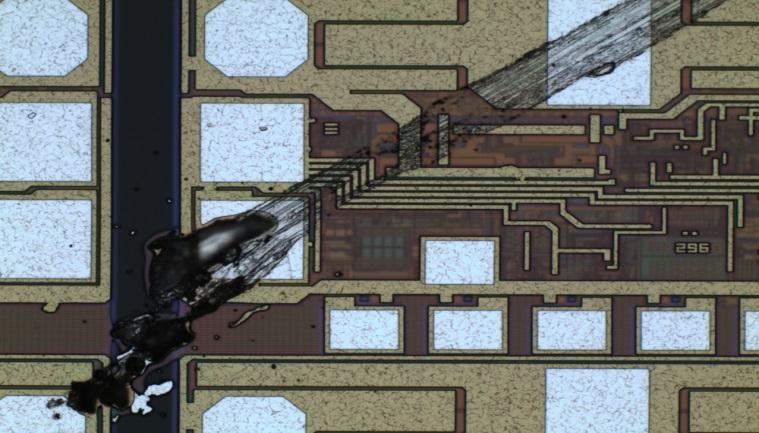SCRATCH: (44, 2, 738, 428)
